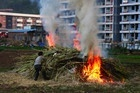fire: (79, 50, 111, 83), (69, 21, 81, 50), (44, 31, 58, 47)
